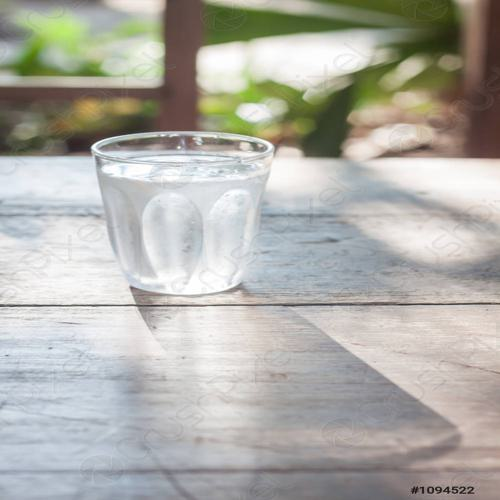vaso: (90, 131, 281, 297)
